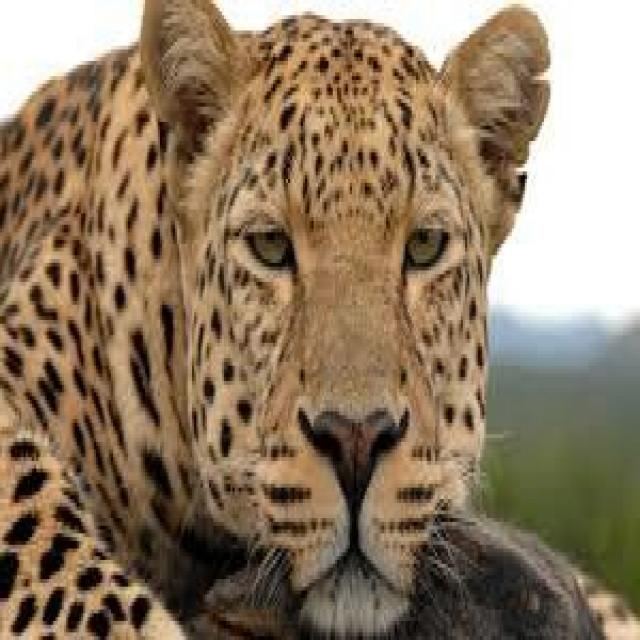leopard: (2, 0, 550, 636)
